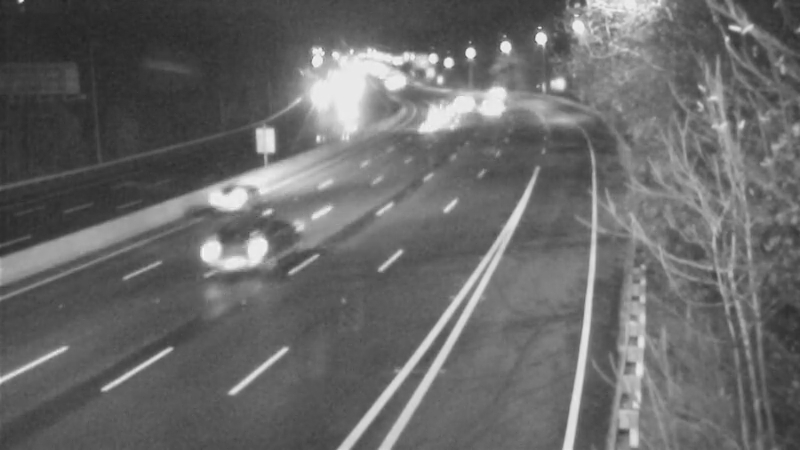vehicle: (195, 161, 275, 241), (192, 213, 272, 293), (466, 64, 516, 114), (441, 77, 491, 127), (465, 84, 515, 134), (414, 84, 464, 134), (400, 101, 450, 151)
